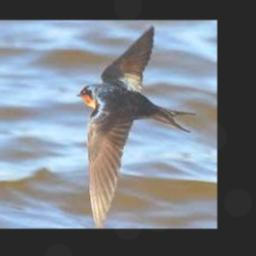Swallow: (76, 25, 195, 227)
